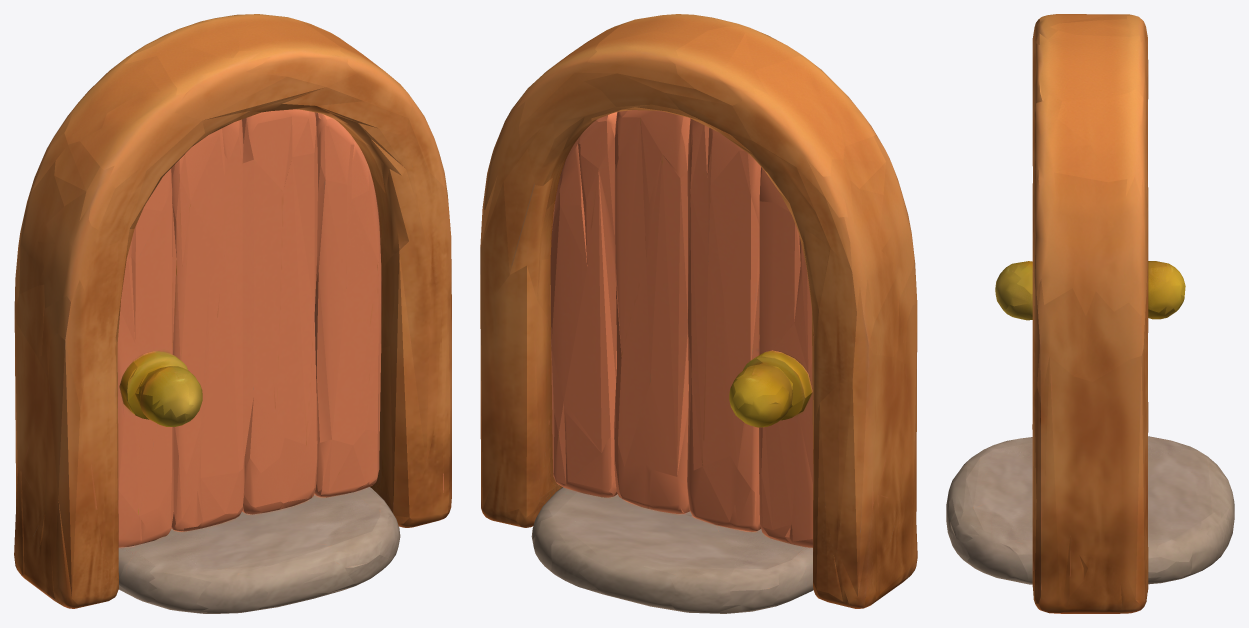
File: darwaza.glb
3 renders of one model, left to right at view 1: azimuth 30°, elevation 25°; view 2: azimuth 150°, elevation 25°; view 3: azimuth 270°, elevation 25°, orthographic. The views are drawn at different scales.
Size of the model in its own units: 1.51 by 1.9 by 1.01.
1 material, 1 textured.
